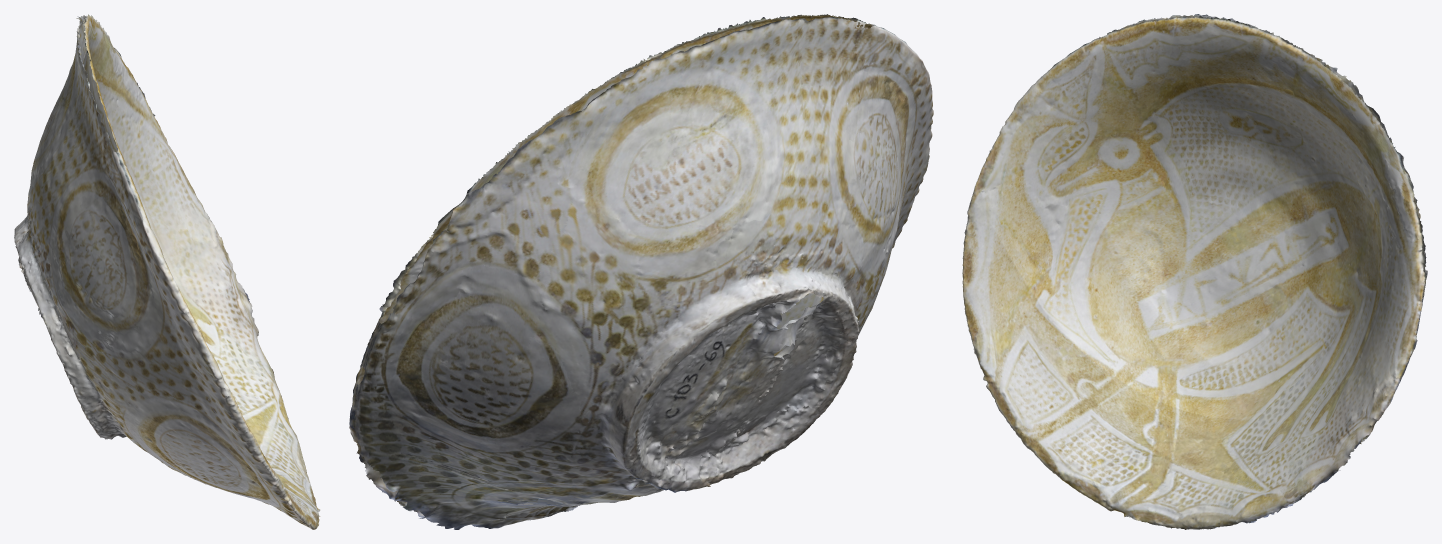
Rendered from bowl.glb.
3 views of the same model, side by side, from view 1: azimuth 30°, elevation 25°; view 2: azimuth 150°, elevation 25°; view 3: azimuth 270°, elevation 25° (orthographic). The views are drawn at different scales.
Visible parts, largest first — view 1: Object_2, Object_3, Object_4; view 2: Object_3, Object_2, Object_4; view 3: Object_2, Object_3, Object_4.
Part boxes in pixels (x1,y1,x2,y2): Object_2: (14, 16, 318, 529); Object_3: (14, 14, 320, 529); Object_4: (14, 15, 320, 529); Object_3: (352, 15, 932, 520); Object_2: (349, 14, 933, 528); Object_4: (350, 14, 932, 529); Object_2: (962, 14, 1422, 528); Object_3: (962, 17, 1426, 529); Object_4: (962, 14, 1427, 528).
Size of the model in its own units: 20.91 by 31.16 by 30.83.
1 material, 1 textured.
